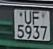3: (32, 24, 41, 41)
5: (17, 23, 25, 41)
7: (40, 23, 48, 42)
9: (25, 25, 33, 41)
F: (32, 10, 41, 26)
U: (24, 10, 32, 26)
